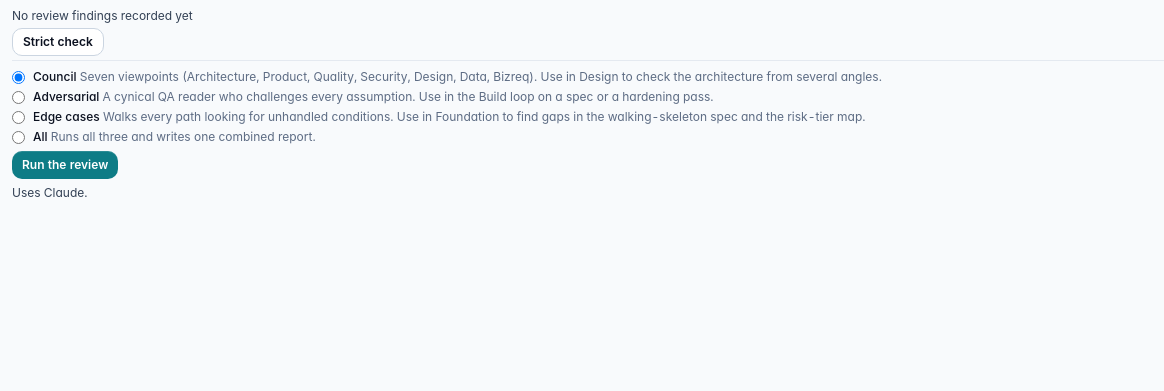
it: ReviewStandingPanel: the run › says no findings were recorded when the report had no findings table
The image size is (1164, 391).
Expected: the text "No review findings recorded yet" is shown, [12,8,193,23]
Click the button "Run the review".
click(65, 165)  # box [12,151,118,179]
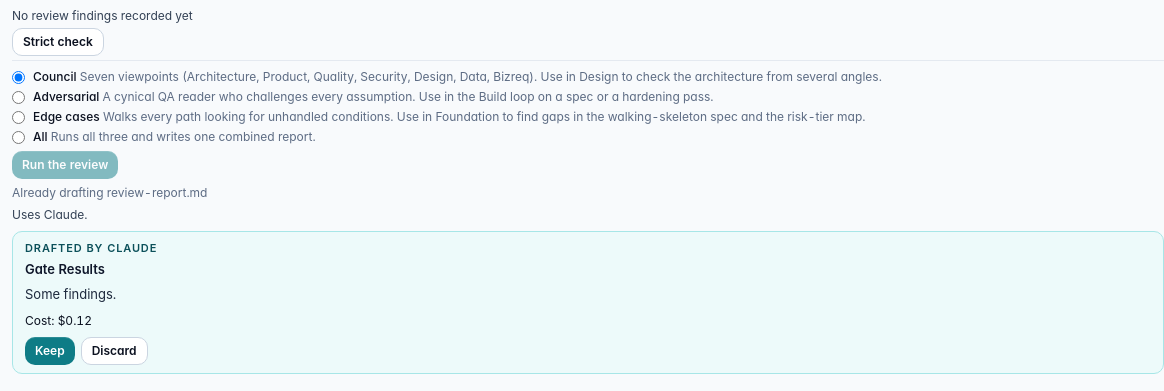
Expected: the element with test id "candidate-text" is shown, [25,261,116,302]
Click the button with test id "draft-keep".
click(50, 351)  # box [25,337,75,365]
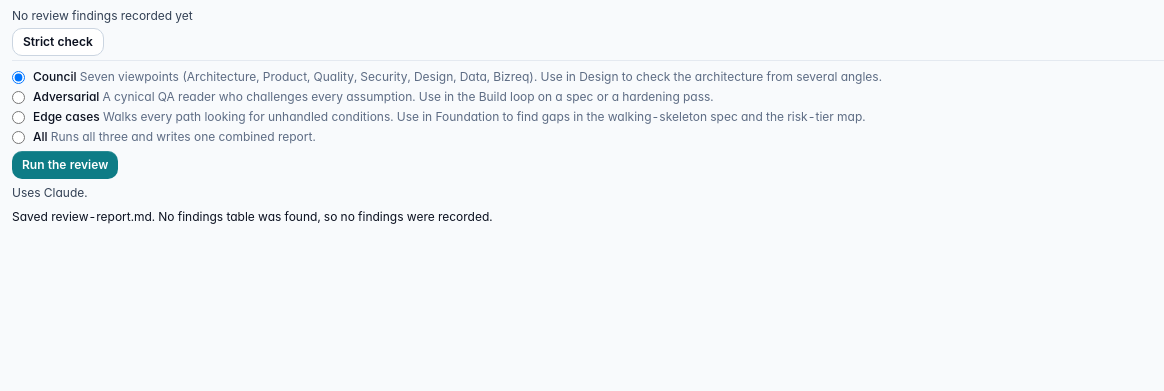
Expected: the text with test id "draft-saved" shows "Saved review-report.md. No findings table was found, so no findings were recorded.", [12,209,492,224]
